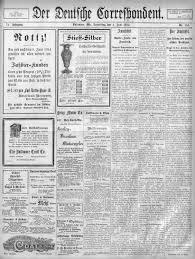Printing industry: (1, 1, 195, 259)
